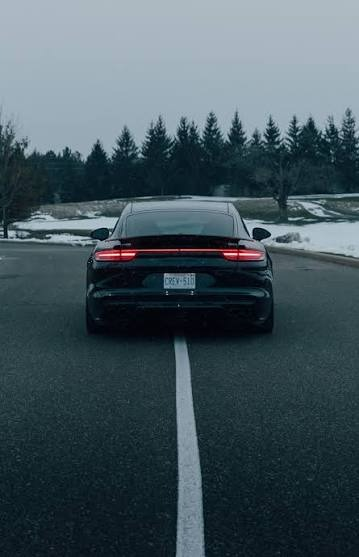car: (78, 198, 282, 340)
